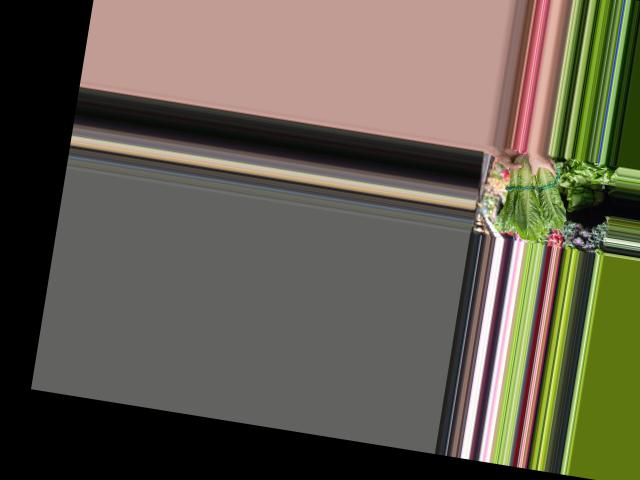lettuce: (496, 147, 576, 242)
